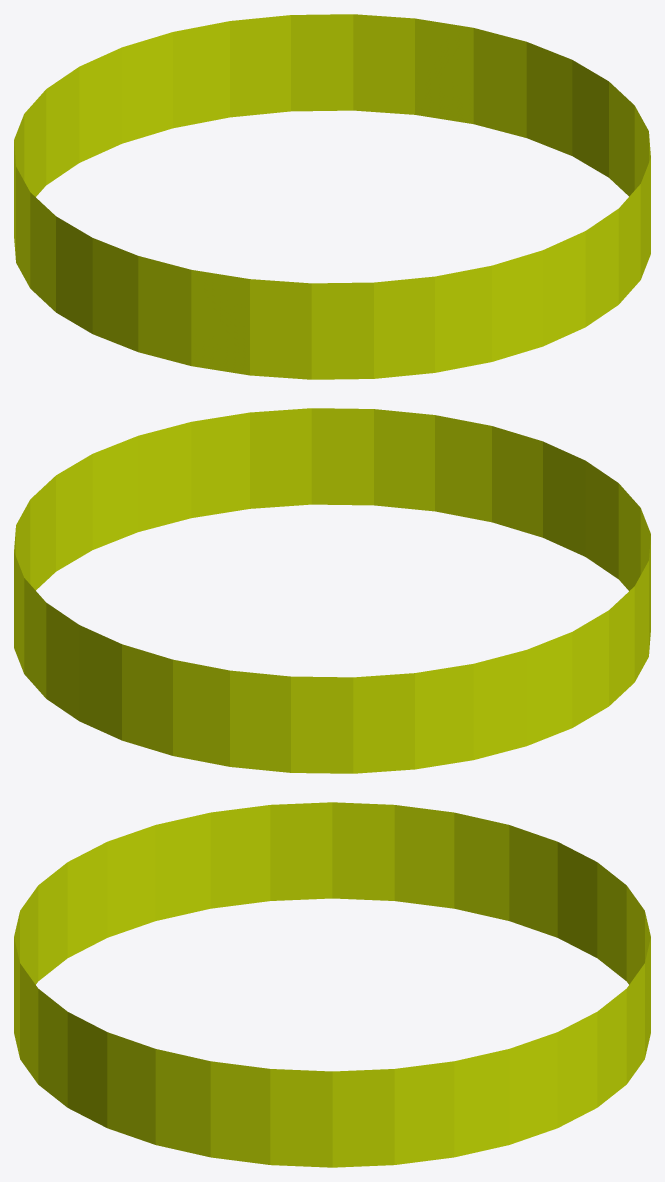
File: AuraRingYellow.obj
3 views of the same model, one above another, from view 1: azimuth 30°, elevation 25°; view 2: azimuth 150°, elevation 25°; view 3: azimuth 270°, elevation 25° (orthographic).
Parts seen in each view (by area): view 1: Circle; view 2: Circle; view 3: Circle.
Boxes of the visible parts, box(x1,y1,x2,y2) form: Circle: box(14, 14, 650, 379); Circle: box(14, 408, 650, 773); Circle: box(14, 802, 650, 1167).
Bounding box in the file's own units: 3 × 0.5 × 3.
Materials: 1 (1 with a texture image).
